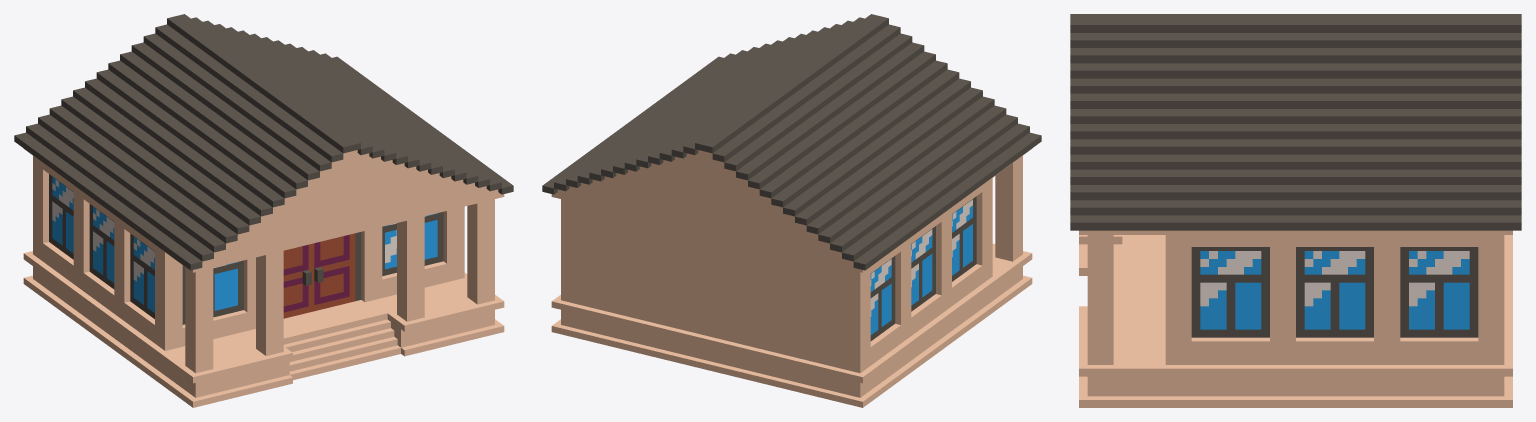
File: museum_a.obj
The picture shows the model from 3 angles, left to right: view 1: azimuth 30°, elevation 25°; view 2: azimuth 150°, elevation 25°; view 3: azimuth 270°, elevation 25°; orthographic projection. The views are drawn at different scales.
Size of the model in its own units: 5.5 by 3.7 by 5.2.
1 material, 1 textured.
